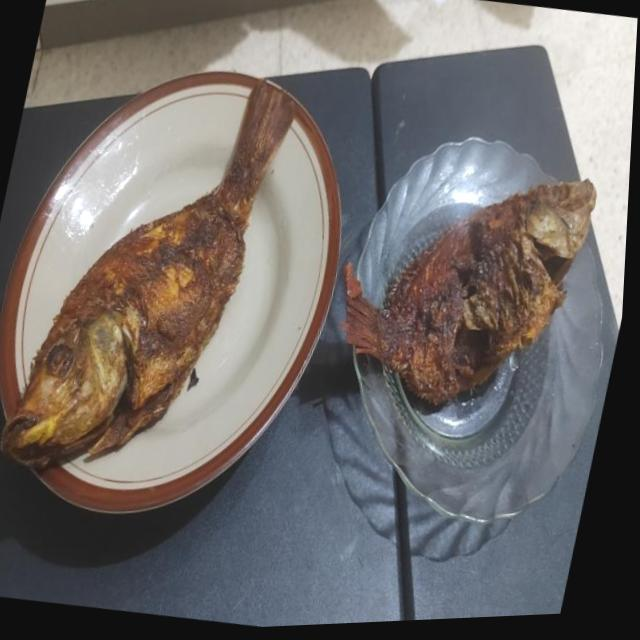ikan_mujair: (2, 79, 296, 469), (341, 180, 596, 405)
